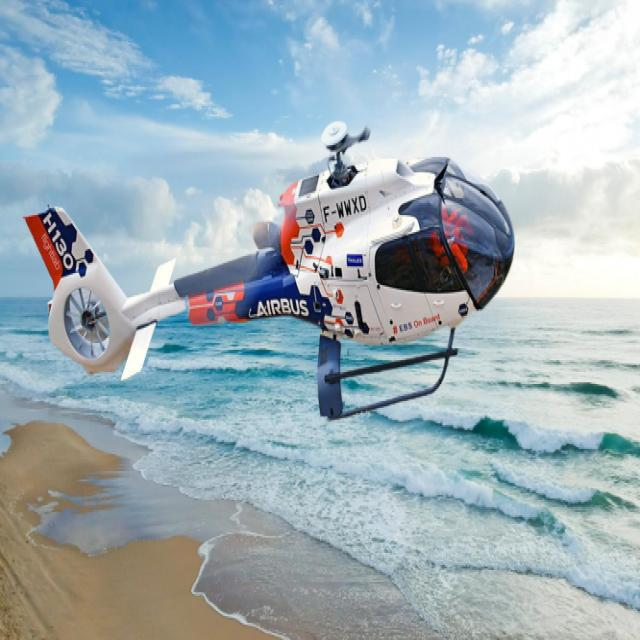plane: (24, 109, 526, 428)
